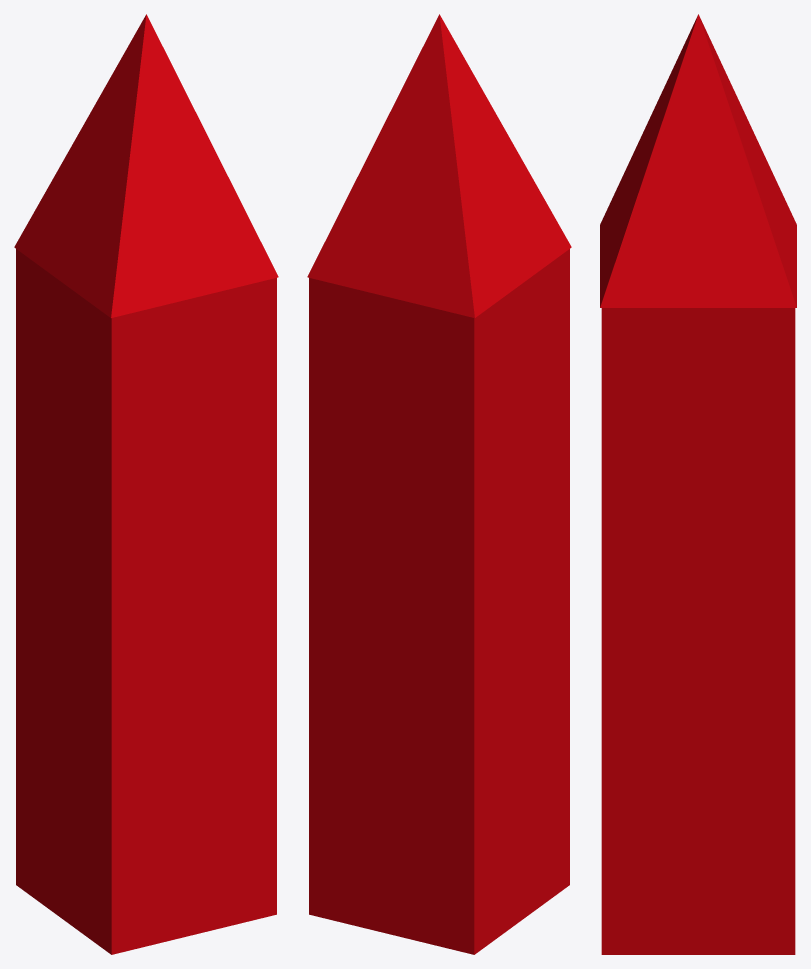
File: Pilares.fbx
The picture shows the model from 3 angles, left to right: view 1: azimuth 30°, elevation 25°; view 2: azimuth 150°, elevation 25°; view 3: azimuth 270°, elevation 25°; orthographic projection.
Parts seen in each view (by area): view 1: Cube, Cono; view 2: Cube, Cono; view 3: Cube, Cono.
Part boxes in pixels (left/top/right/bottom): Cube: left=16, top=249, right=276, bottom=954; Cono: left=14, top=14, right=278, bottom=317; Cube: left=309, top=249, right=569, bottom=954; Cono: left=307, top=14, right=571, bottom=317; Cube: left=601, top=308, right=795, bottom=954; Cono: left=600, top=14, right=796, bottom=307.
Size of the model in its own units: 2.33 by 11.78 by 2.33.
